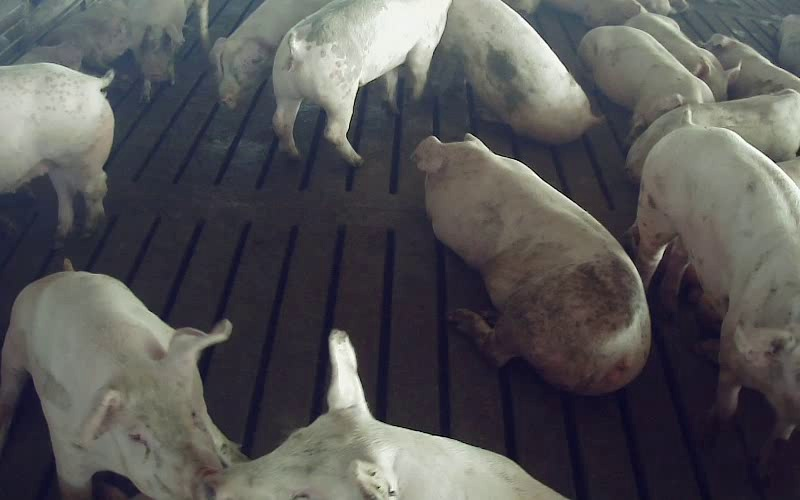pig: (414, 134, 650, 393), (216, 330, 564, 499), (0, 259, 245, 499), (635, 126, 799, 435), (430, 0, 601, 143), (626, 89, 799, 180), (578, 26, 713, 138), (624, 12, 739, 100), (703, 34, 799, 98)
